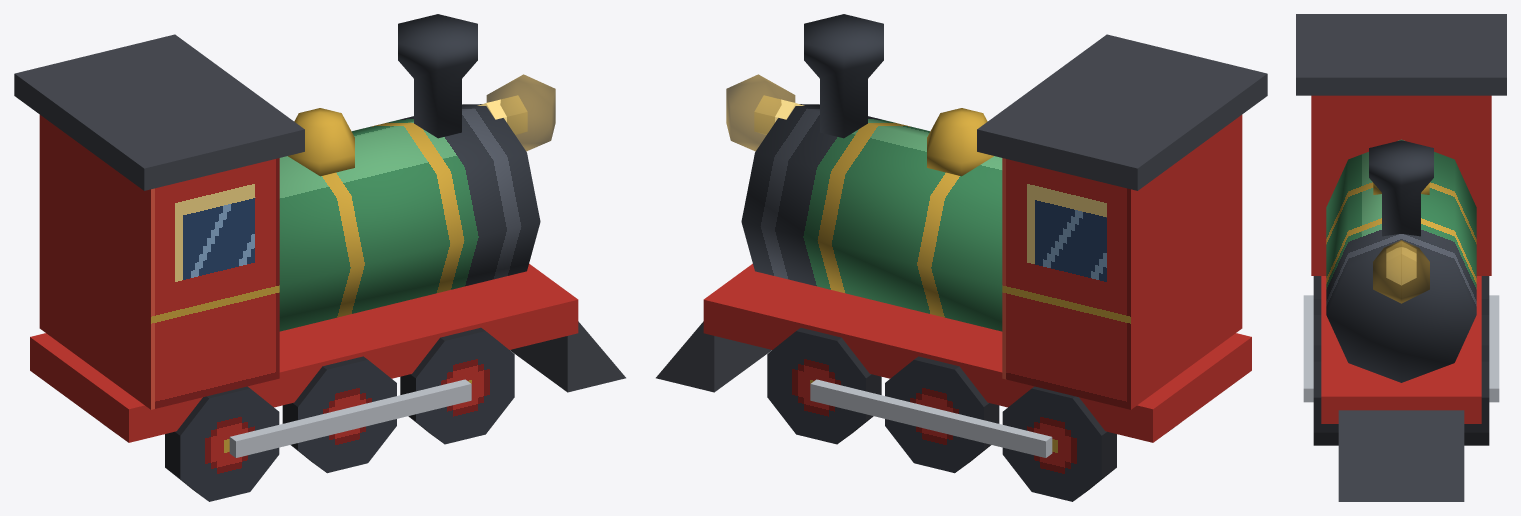
The model's file is around-train.glb.
3 views of the same model, side by side, from view 1: azimuth 30°, elevation 25°; view 2: azimuth 150°, elevation 25°; view 3: azimuth 270°, elevation 25° (orthographic). The views are drawn at different scales.
Parts seen in each view (by area): view 1: around.train; view 2: around.train; view 3: around.train.
Boxes of the visible parts, <box> form: around.train: <box>14,14,625,501</box>; around.train: <box>656,14,1267,501</box>; around.train: <box>1296,14,1506,501</box>.
Size of the model in its own units: 1.56 by 1.05 by 0.6878.
11 materials, 3 textured.
